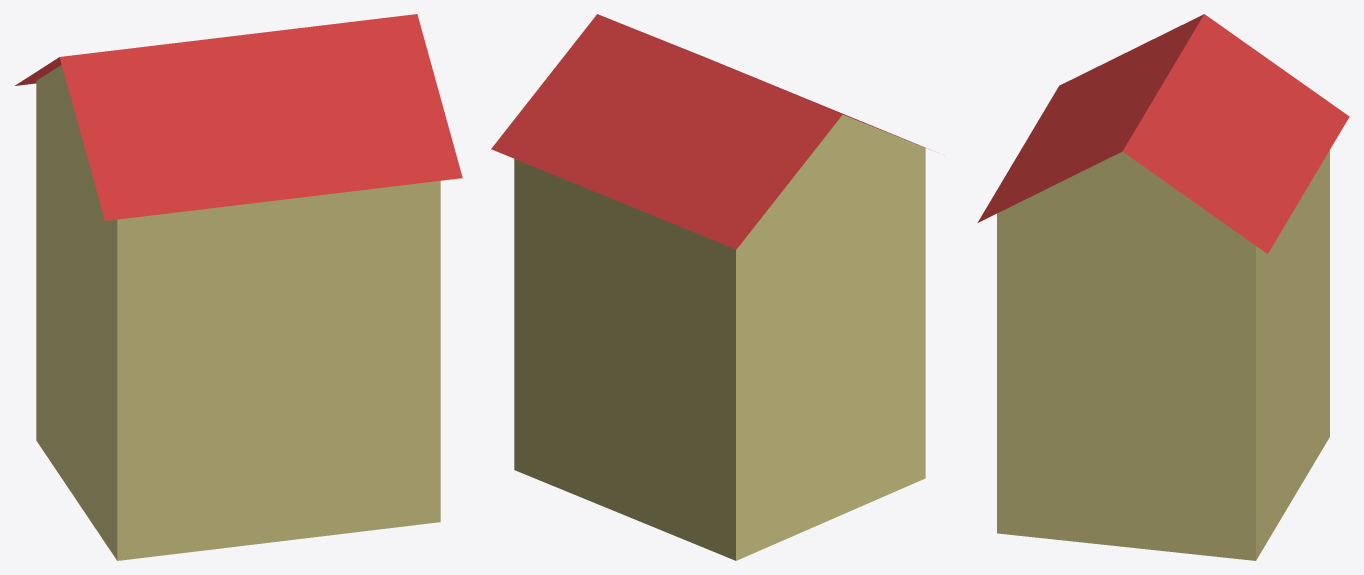
3 renders of one model, left to right at view 1: azimuth 30°, elevation 25°; view 2: azimuth 150°, elevation 25°; view 3: azimuth 270°, elevation 25°, orthographic. The views are drawn at different scales.
Visible parts, largest first — view 1: group_5, group_3, group_4; view 2: group_5, group_3; view 3: group_5, group_3, group_4.
Boxes of the visible parts, x1,y1,x2,y2 form: group_5: (36,65,440,560); group_3: (60,14,462,220); group_4: (15,15,462,177); group_5: (514,115,925,560); group_3: (491,14,939,249); group_5: (997,150,1329,560); group_3: (978,14,1349,253); group_4: (978,14,1203,222).
Bounding box in the file's own units: 12.3 × 11.49 × 13.7.
